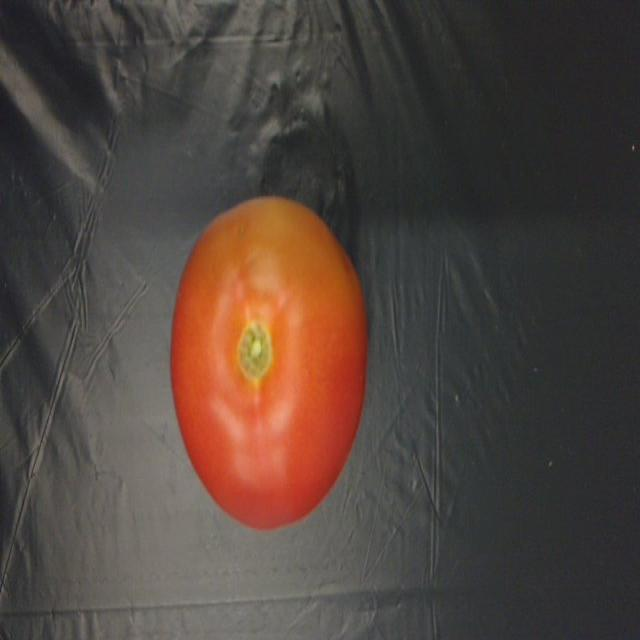sari: (160, 185, 363, 541)
